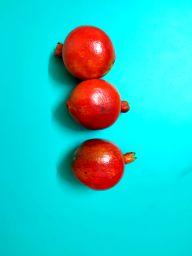pomegranate: (71, 139, 137, 190), (64, 79, 130, 130), (56, 25, 116, 79)
